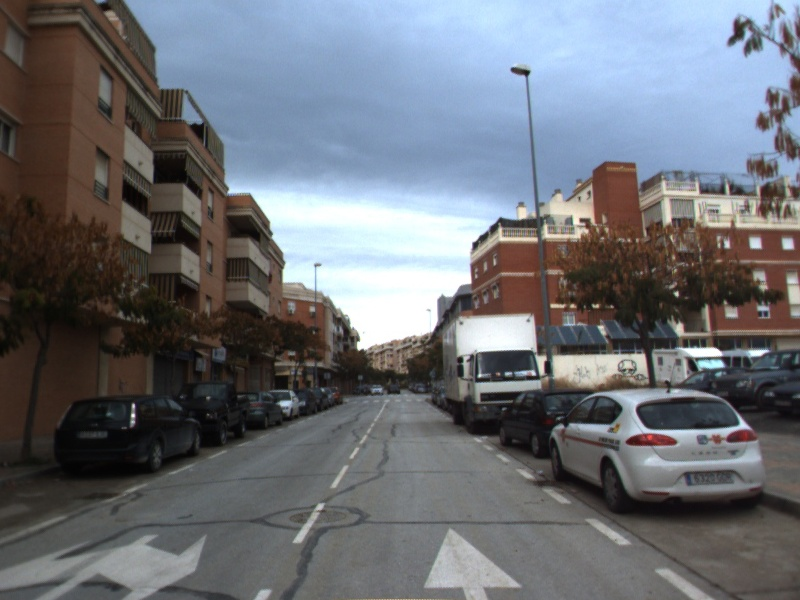STRAIGHT: (420, 523, 526, 600)
